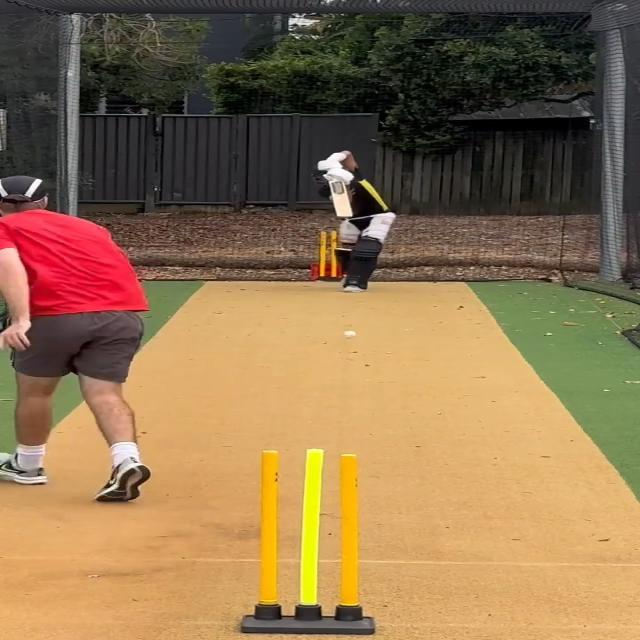ball: (342, 329, 357, 338)
stump: (238, 446, 380, 630)
